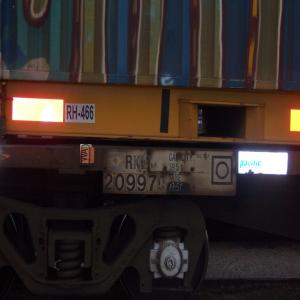Vehicle-registration-plate: (97, 156, 170, 204), (65, 104, 95, 123), (81, 147, 95, 163)
